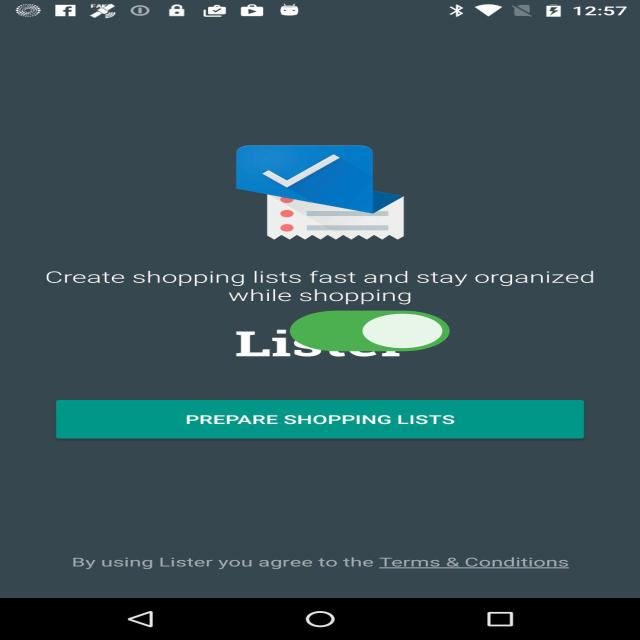social proof: (283, 295, 457, 370)
